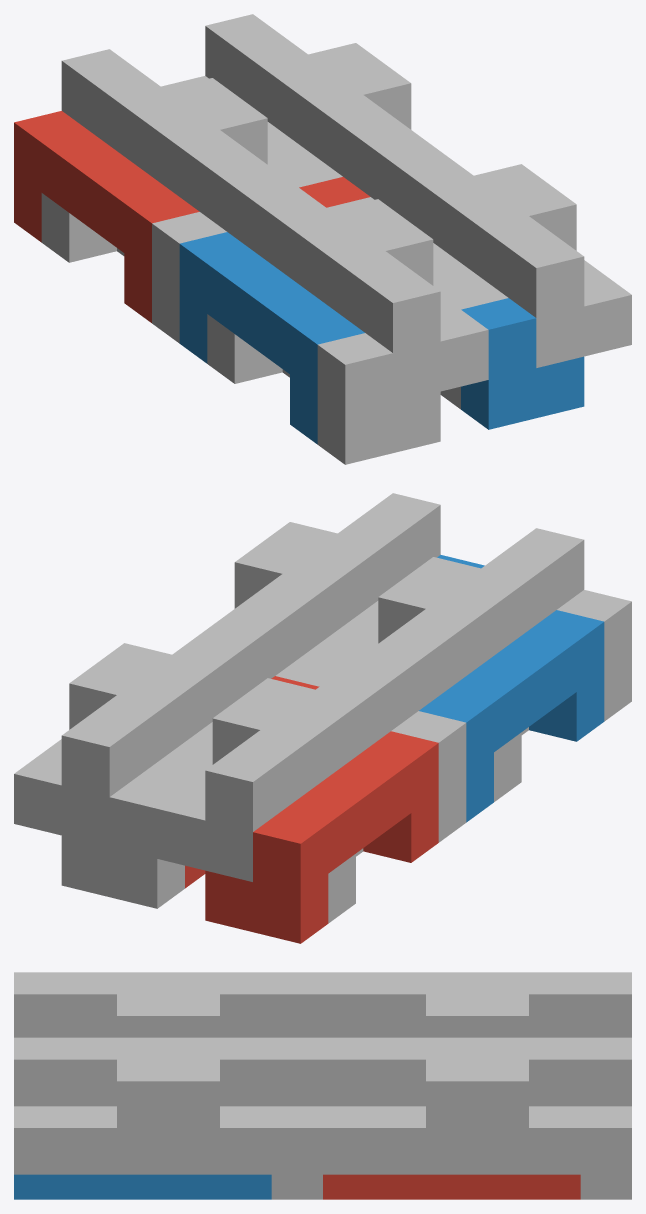
The model's file is tiling.obj.
3 renders of one model, top to bottom at view 1: azimuth 30°, elevation 25°; view 2: azimuth 150°, elevation 25°; view 3: azimuth 270°, elevation 25°, orthographic. The views are drawn at different scales.
Parts seen in each view (by area): view 1: copy_1_domain_2, copy_1_domain_1, copy_1_domain_4, copy_1_domain_3, copy_1_domain_7, copy_1_domain_8, copy_2_domain_2, copy_2_domain_8, copy_2_domain_4, copy_2_domain_6, copy_2_domain_1, copy_2_domain_3 (+4 smaller); view 2: copy_1_domain_1, copy_1_domain_3, copy_1_domain_7, copy_1_domain_2, copy_1_domain_4, copy_1_domain_8, copy_1_domain_5, copy_2_domain_1, copy_2_domain_2, copy_2_domain_3, copy_2_domain_7, copy_2_domain_4 (+2 smaller); view 3: copy_2_domain_7, copy_2_domain_8, copy_1_domain_7, copy_1_domain_8, copy_1_domain_3, copy_1_domain_4, copy_2_domain_5, copy_2_domain_6, copy_2_domain_3, copy_2_domain_4, copy_1_domain_5, copy_1_domain_6.
Boxes of the visible parts, bbox=[...] form: copy_1_domain_2: bbox=[179, 232, 364, 444]; copy_1_domain_1: bbox=[14, 111, 199, 322]; copy_1_domain_4: bbox=[227, 170, 433, 332]; copy_1_domain_3: bbox=[61, 49, 267, 211]; copy_1_domain_7: bbox=[205, 14, 411, 176]; copy_1_domain_8: bbox=[370, 135, 576, 297]; copy_2_domain_2: bbox=[207, 314, 440, 464]; copy_2_domain_8: bbox=[474, 164, 631, 367]; copy_2_domain_4: bbox=[331, 199, 488, 402]; copy_2_domain_6: bbox=[461, 298, 584, 429]; copy_2_domain_1: bbox=[41, 193, 226, 343]; copy_2_domain_3: bbox=[165, 78, 274, 231]; copy_1_domain_1: bbox=[205, 731, 438, 943]; copy_1_domain_3: bbox=[157, 669, 390, 881]; copy_1_domain_7: bbox=[14, 634, 247, 846]; copy_1_domain_2: bbox=[419, 610, 604, 822]; copy_1_domain_4: bbox=[371, 548, 556, 710]; copy_1_domain_8: bbox=[228, 513, 413, 675]; copy_1_domain_5: bbox=[61, 722, 212, 908]; copy_2_domain_1: bbox=[328, 711, 466, 923]; copy_2_domain_2: bbox=[494, 590, 631, 801]; copy_2_domain_3: bbox=[185, 649, 418, 793]; copy_2_domain_7: bbox=[42, 614, 275, 758]; copy_2_domain_4: bbox=[378, 528, 584, 643]; copy_2_domain_7: bbox=[323, 1037, 580, 1174]; copy_2_domain_8: bbox=[14, 1037, 271, 1174]; copy_1_domain_7: bbox=[374, 1037, 631, 1174]; copy_1_domain_8: bbox=[65, 1037, 322, 1174]; copy_1_domain_3: bbox=[374, 972, 631, 1037]; copy_1_domain_4: bbox=[65, 972, 322, 1037]; copy_2_domain_5: bbox=[323, 1174, 580, 1199]; copy_2_domain_6: bbox=[14, 1174, 271, 1199]; copy_2_domain_3: bbox=[323, 972, 528, 1037]; copy_2_domain_4: bbox=[14, 972, 219, 1037]; copy_1_domain_5: bbox=[580, 1174, 631, 1199]; copy_1_domain_6: bbox=[271, 1174, 322, 1199].
Bounding box in the file's own units: 6 × 3 × 12.
